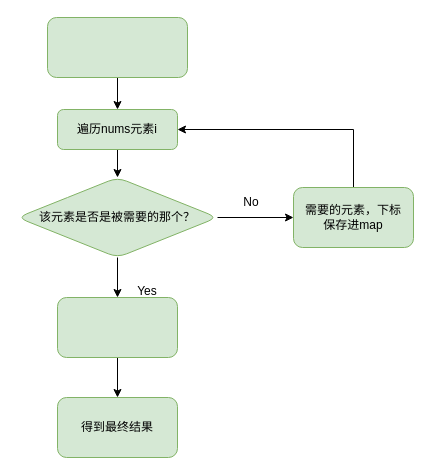
Some shapes in this 431 by 475 pixel diagram are drawn without their labels. The box of each missing label's shape, as (x1, y1, x2, y2) in pixels:
初始化 Res = new int[2]; map(需要的元素，下标): (46, 16, 188, 78)
当前元素下标 当前元素对应下标: (56, 296, 178, 358)
